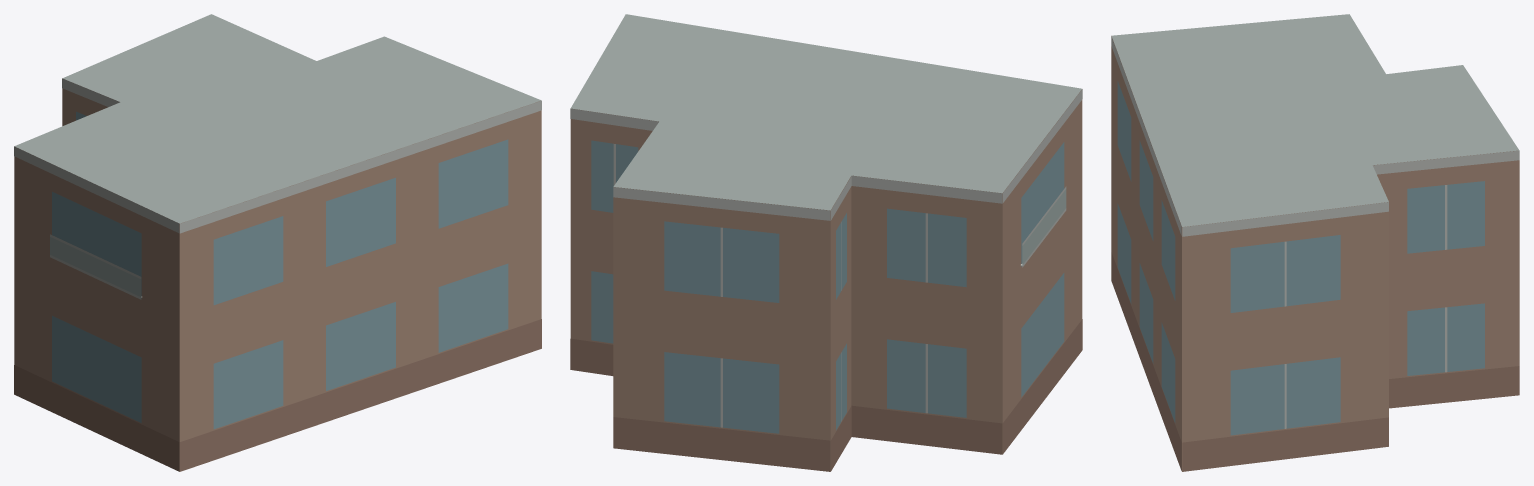
The model's file is survey-upis-32902102.glb.
The picture shows the model from 3 angles, left to right: view 1: azimuth 30°, elevation 25°; view 2: azimuth 150°, elevation 25°; view 3: azimuth 270°, elevation 25°; orthographic projection. The views are drawn at different scales.
Visible parts, largest first — view 1: survey-upis-32902102.tmp; view 2: survey-upis-32902102.tmp; view 3: survey-upis-32902102.tmp.
Boxes of the visible parts, left/top/right/bottom form: survey-upis-32902102.tmp: left=14, top=14, right=541, bottom=471; survey-upis-32902102.tmp: left=570, top=14, right=1082, bottom=471; survey-upis-32902102.tmp: left=1111, top=14, right=1519, bottom=471.
Size of the model in its own units: 11.4 by 6.1 by 9.23.
